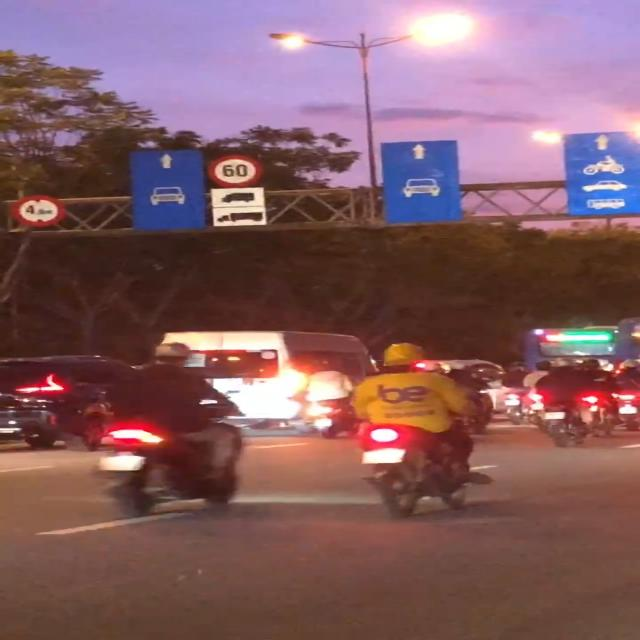Bien bao han che chieu cao: (13, 194, 72, 228)
Bien bao toc do toi da cho phep: (198, 154, 265, 186)
